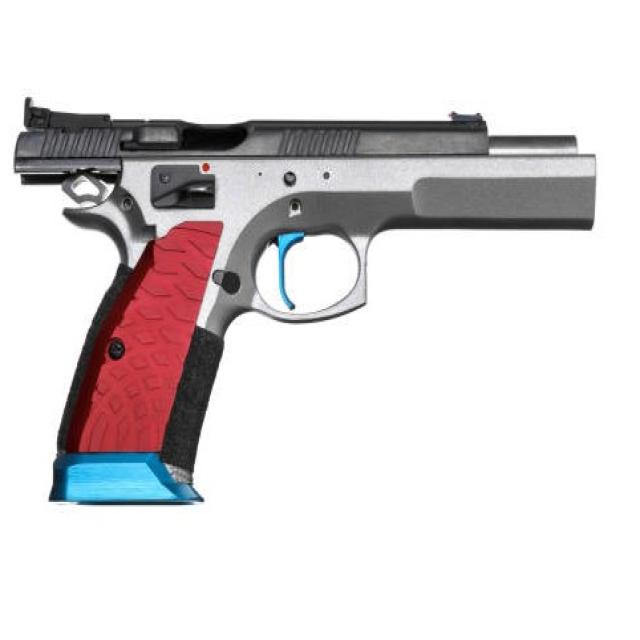pistol: (6, 84, 604, 521)
